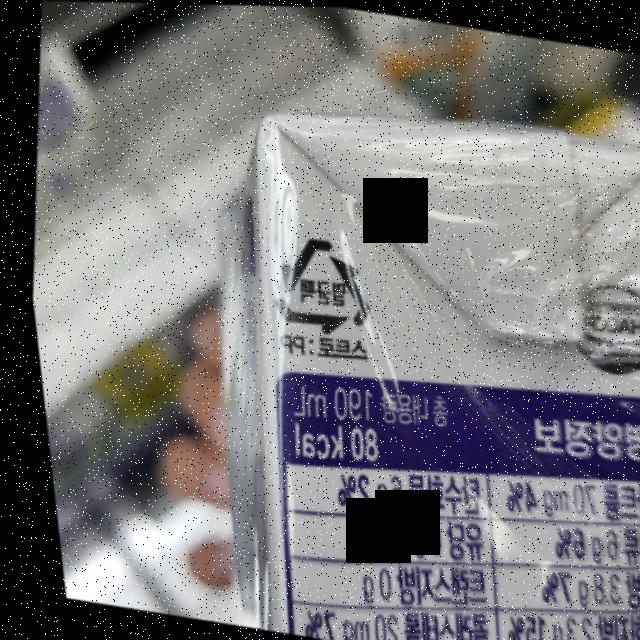SterilizedPack: (257, 225, 376, 343)
